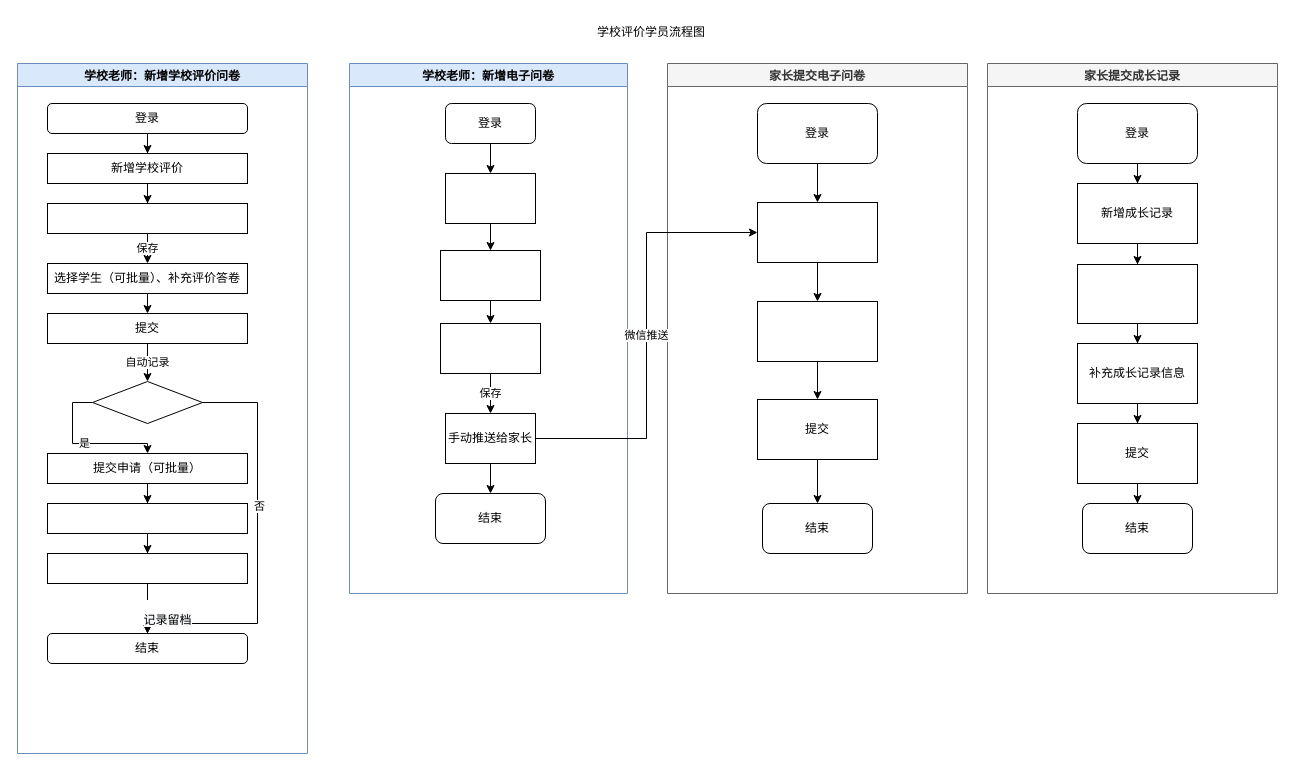
This 1295x771 diagram has some shape labels left out. Here are the shapes that lost their labels. From the top down, the centre of each, then its label:
At point (147, 218): "评价问卷组卷（可选负面清单、校用指标）".
At point (490, 198): "新增电子问卷".
At point (817, 232): "查看电子问卷".
At point (490, 275): "评价问卷组卷（可选通用、家长用指标）".
At point (1137, 294): "选择评价指标（通用、 家长 ）".
At point (490, 348): "选择学生（可批量 ）".
At point (817, 331): "填写电子问卷".
At point (147, 402): "是否发布给家长".
At point (147, 518): "审核通过（一级）： 通过、不通过".
At point (147, 568): "自动推送学校评价给家长".
